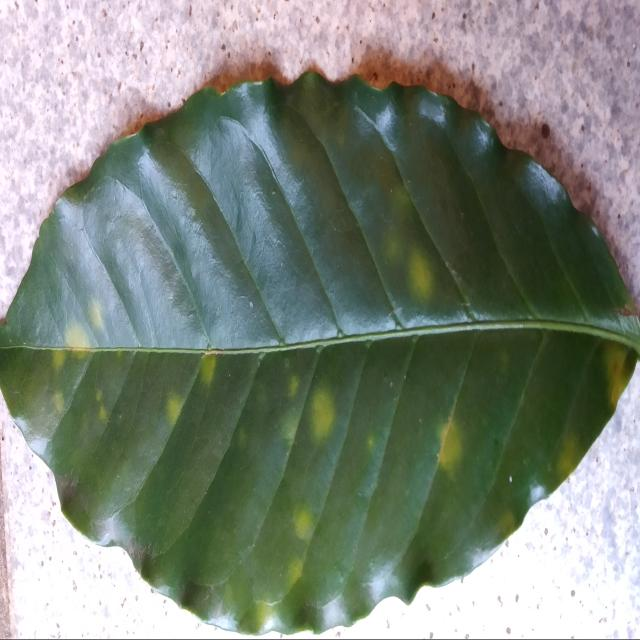Enfermedad-Roya: (0, 71, 640, 635)
